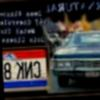License_Plate: (83, 71, 100, 79)
